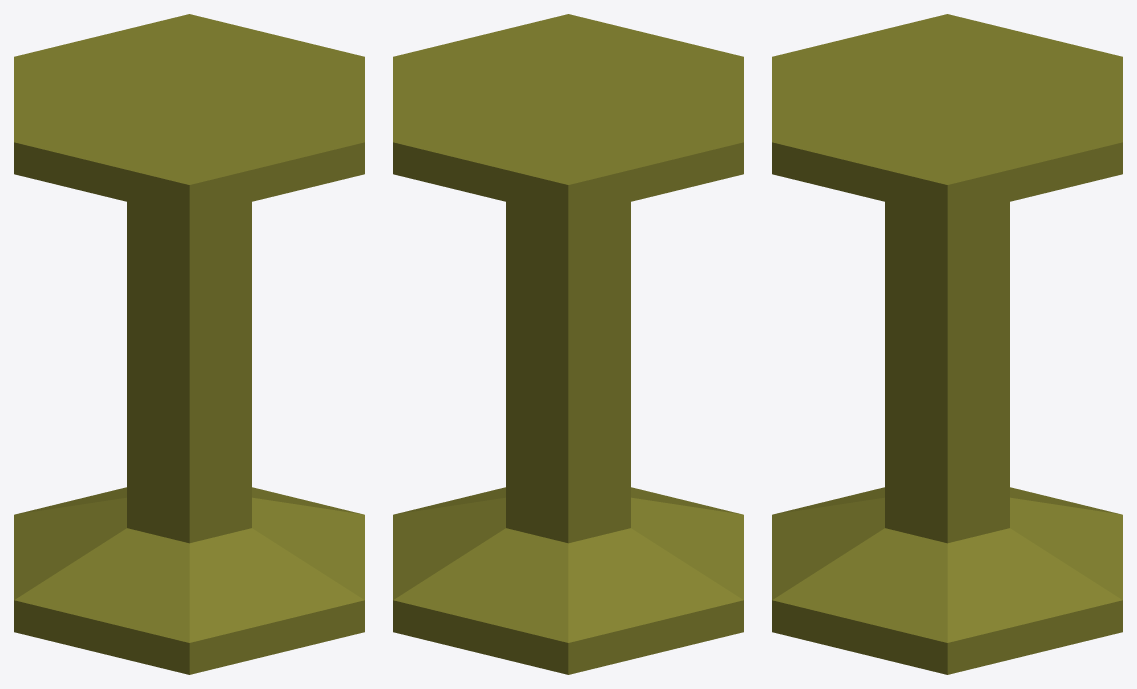
3 views of the same model, side by side, from view 1: azimuth 30°, elevation 25°; view 2: azimuth 150°, elevation 25°; view 3: azimuth 270°, elevation 25° (orthographic).
Visible parts, largest first — view 1: solid 8-col; view 2: solid 8-col; view 3: solid 8-col.
Boxes of the visible parts, x1,y1,x2,y2 form: solid 8-col: (14, 14, 364, 674); solid 8-col: (393, 14, 743, 674); solid 8-col: (772, 14, 1122, 674).
Bounding box in the file's own units: 1.73 × 2.31 × 1.5.
